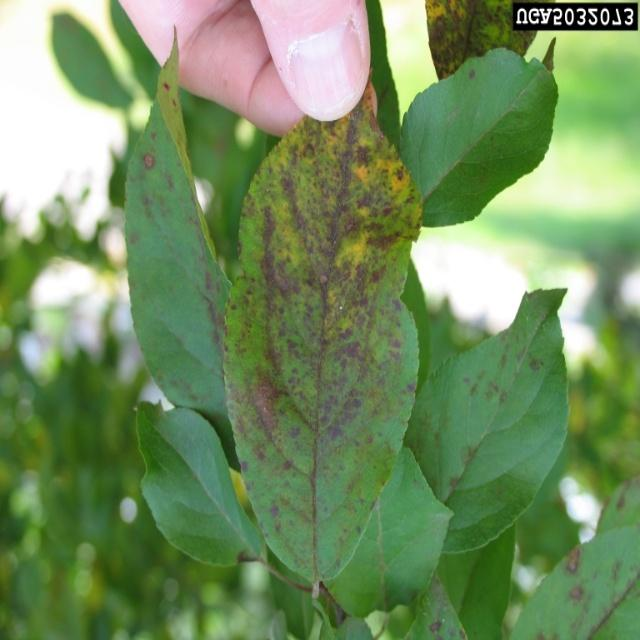shot_hole: (220, 72, 428, 598), (495, 520, 640, 640)
